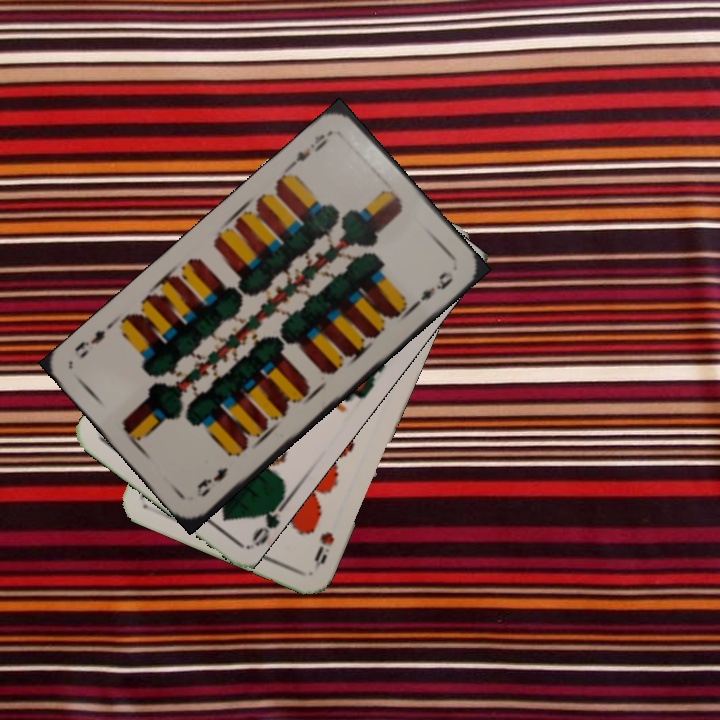E9: (285, 127, 335, 171), (192, 463, 231, 500)
GO: (248, 495, 291, 548)
H9: (310, 527, 337, 572)
